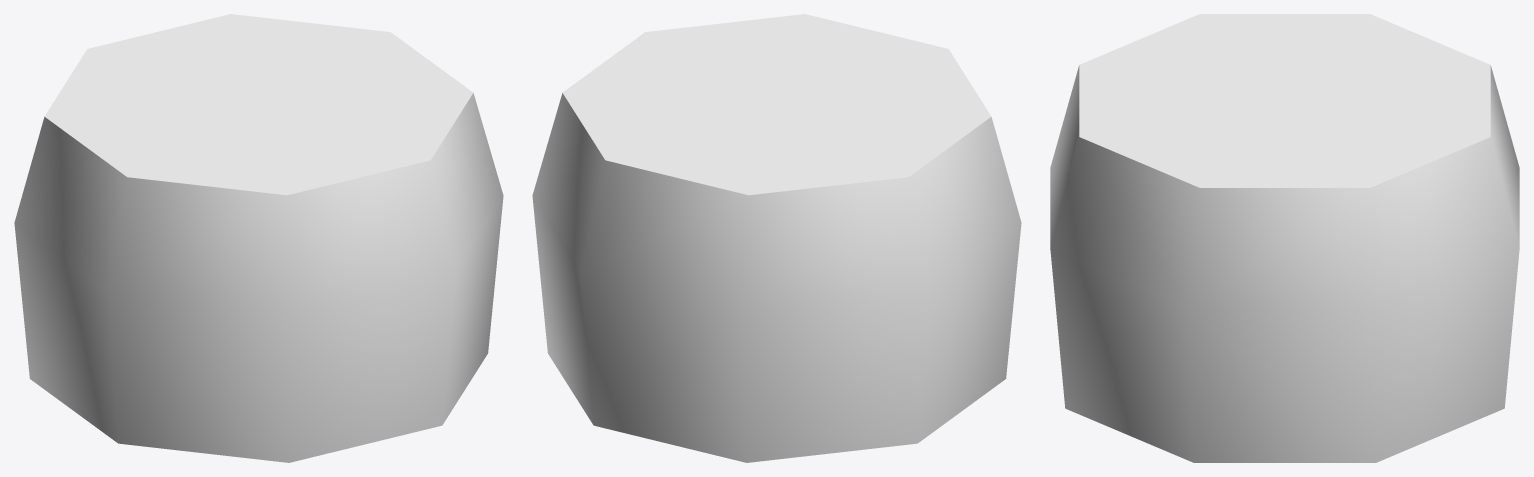
The model's file is tower-base.glb.
3 renders of one model, left to right at view 1: azimuth 30°, elevation 25°; view 2: azimuth 150°, elevation 25°; view 3: azimuth 270°, elevation 25°, orthographic. The views are drawn at different scales.
Visible parts, largest first — view 1: tower-base; view 2: tower-base; view 3: tower-base.
Boxes of the visible parts, <box> form: tower-base: <box>14,14,503,462</box>; tower-base: <box>532,14,1021,462</box>; tower-base: <box>1050,14,1519,462</box>.
Bounding box in the file's own units: 3.16 × 2 × 3.16.
Materials: 1 (1 with a texture image).
